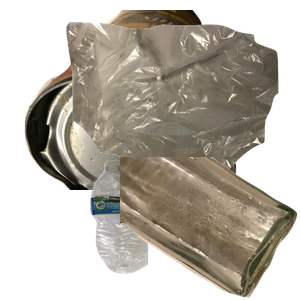glass: (120, 157, 300, 300)
metal: (22, 10, 251, 190)
plastic: (88, 158, 229, 300)
trash: (64, 20, 300, 200)
